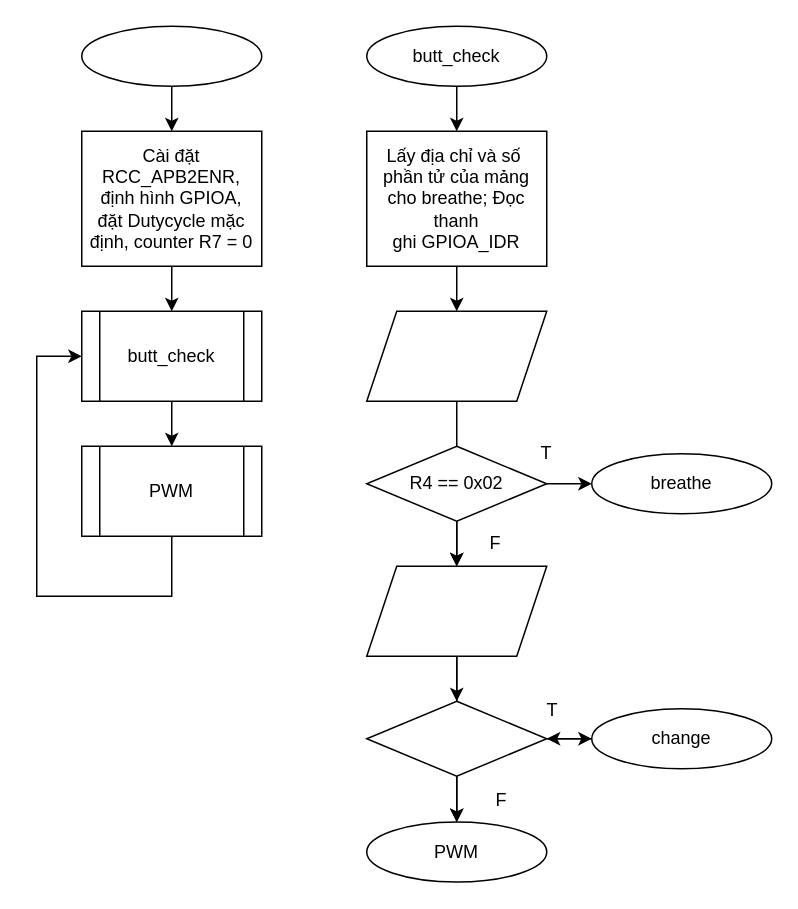
Image size: 798x909. Some labels were removed from this diagram. The shapes that lost their labels are listed below. From the top down, each one's centre as x and y in pixels, then its label:
point 171,55: Reset
point 456,355: R4 = bit 1 IDR tương đương nút breathe
point 456,610: R4 = bit 0 IDR tương đương nút change
point 456,738: R4 == 0x01
